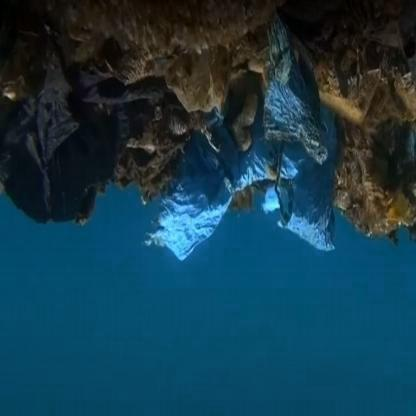plastic: (180, 71, 340, 274), (22, 74, 141, 244)
